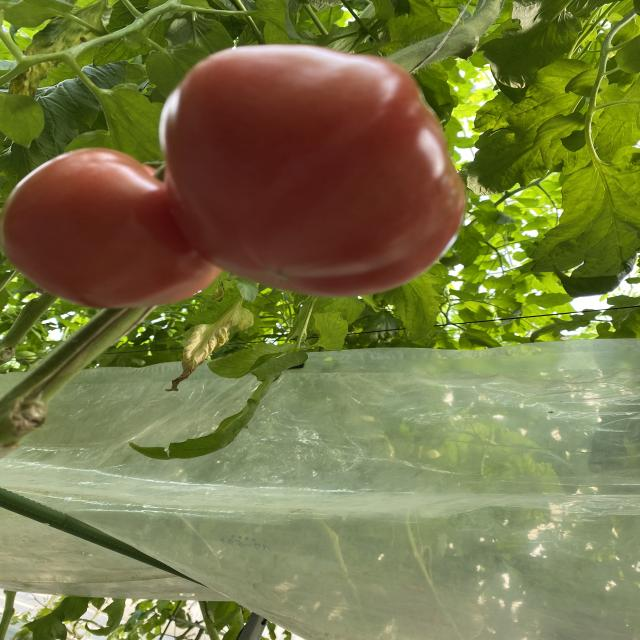n-riped: (159, 44, 465, 297), (2, 148, 223, 310)
